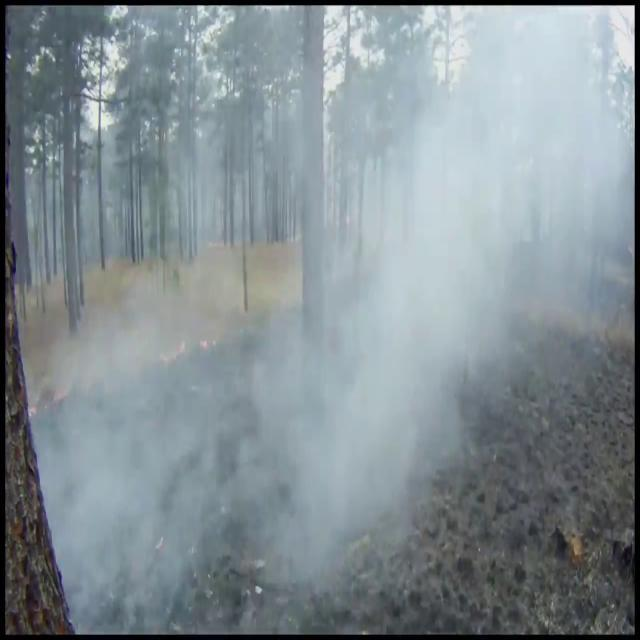Smoke: (23, 7, 626, 629)
